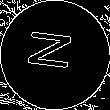N_E: (28, 32, 82, 78)
